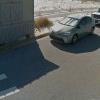Car: (50, 10, 98, 48)
